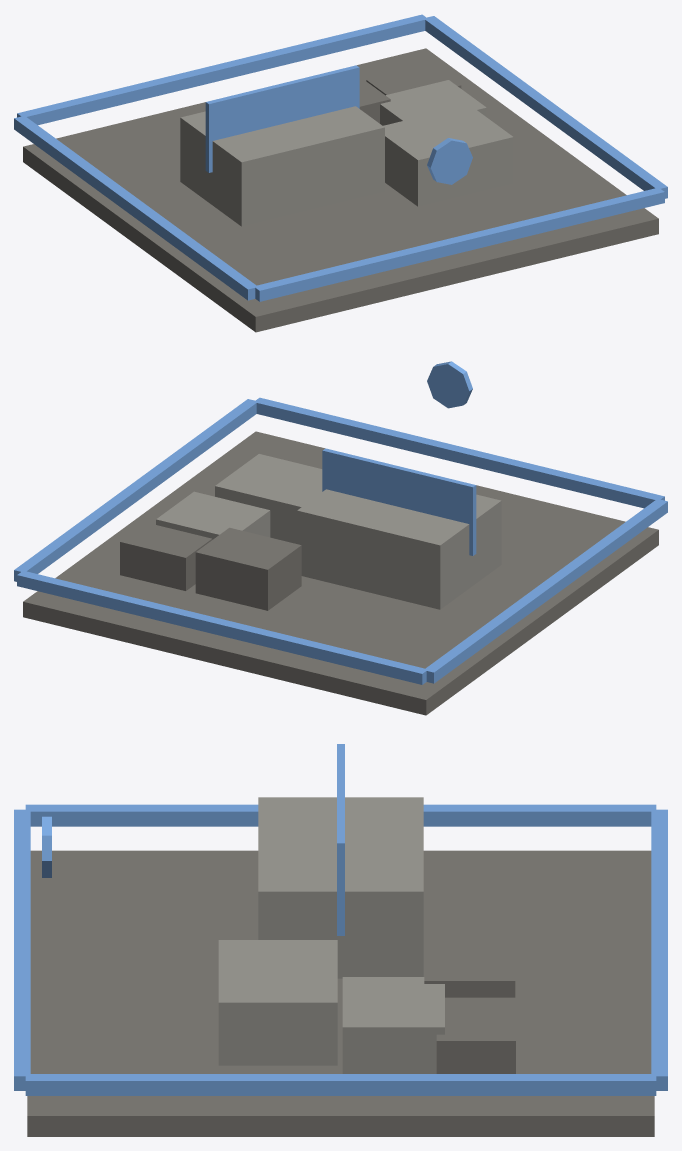
The model's file is t4_stonecutter.glb.
The picture shows the model from 3 angles, top to bottom: view 1: azimuth 30°, elevation 25°; view 2: azimuth 150°, elevation 25°; view 3: azimuth 270°, elevation 25°; orthographic projection. The views are drawn at different scales.
Parts seen in each view (by area): view 1: FootprintBase, WorkBlock, InputStonePileA, TierFrontTrim, TierBackTrim, CutLine, TierLeftTrim, TierRightTrim, InputStonePileB, TierEmblem, OutputBlockB, OutputBlockA; view 2: FootprintBase, WorkBlock, TierBackTrim, TierFrontTrim, OutputBlockA, CutLine, TierLeftTrim, InputStonePileA, TierRightTrim, OutputBlockB, InputStonePileB, TierEmblem; view 3: FootprintBase, WorkBlock, InputStonePileA, TierRightTrim, TierLeftTrim, InputStonePileB, OutputBlockB, OutputBlockA, TierFrontTrim, TierBackTrim, CutLine, TierEmblem.
Part boxes in pixels (x1,y1,x2,y2): FootprintBase: (23,48,658,332); WorkBlock: (180,106,384,226); InputStonePileA: (383,104,513,206); TierFrontTrim: (254,188,664,301); TierBackTrim: (17,14,427,125); CutLine: (205,65,359,172); TierLeftTrim: (14,116,256,300); TierRightTrim: (424,16,667,198); InputStonePileB: (380,80,486,125); TierEmblem: (427,138,472,184); OutputBlockB: (366,64,461,95); OutputBlockA: (359,77,390,123); FootprintBase: (23,431,658,715); WorkBlock: (297,489,501,609); TierBackTrim: (17,570,426,684); TierFrontTrim: (254,397,664,508); OutputBlockA: (195,527,301,610); CutLine: (322,448,476,555); TierLeftTrim: (424,499,667,683); InputStonePileA: (215,454,322,543); TierRightTrim: (14,399,257,581); OutputBlockB: (120,520,212,590); InputStonePileB: (156,491,270,539); TierEmblem: (427,361,472,408); FootprintBase: (27,850,654,1136); WorkBlock: (258,797,423,978); InputStonePileA: (218,940,337,1065); TierRightTrim: (25,1074,656,1095); TierLeftTrim: (25,804,656,826); InputStonePileB: (342,977,444,1073); OutputBlockB: (436,997,515,1073); OutputBlockA: (424,933,515,997); TierFrontTrim: (14,809,30,1090); TierBackTrim: (651,809,667,1090); CutLine: (337,744,344,935); TierEmblem: (42,816,51,877).
Size of the model in its own units: 3.96 by 1.25 by 3.96.
